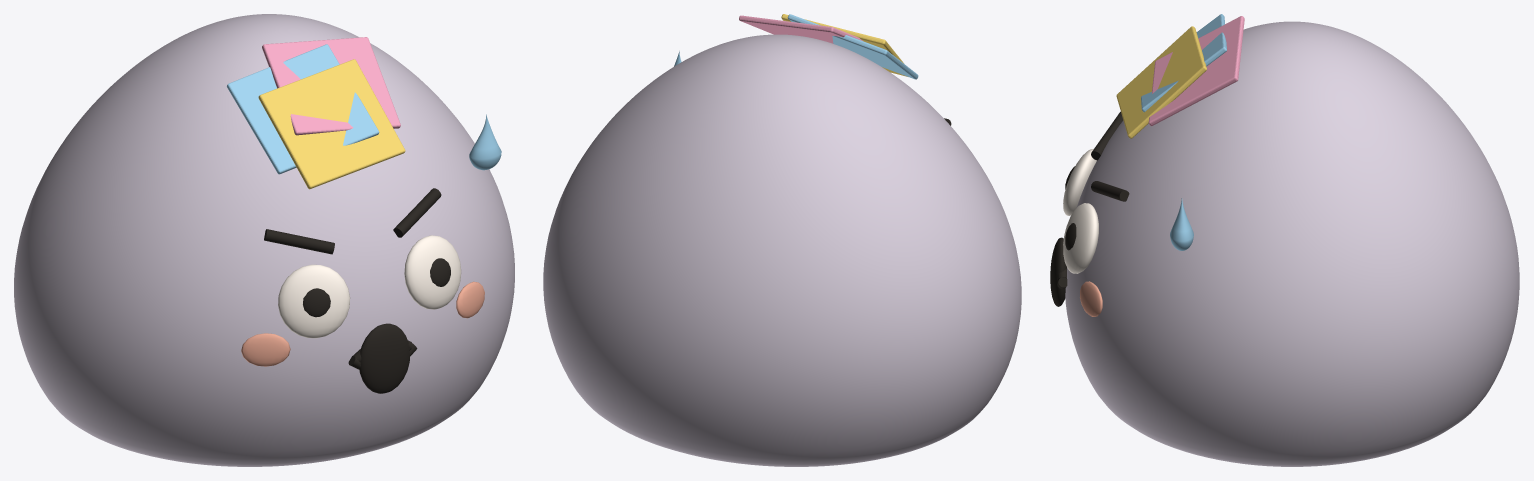
Rendered from Taches.glb.
3 renders of one model, left to right at view 1: azimuth 30°, elevation 25°; view 2: azimuth 150°, elevation 25°; view 3: azimuth 270°, elevation 25°, orthographic. The views are drawn at different scales.
Visible parts, largest first — view 1: Taches_Body, Taches_PostitMain, Taches_PostitBlue, Taches_PostitPink, Taches_EyeWide_L, Taches_EyeWide_R, Taches_MouthOpen, Taches_Cheek_L, Taches_Sweat, Taches_Brow_L, Taches_Cheek_R, Taches_Brow_R (+1 smaller); view 2: Taches_Body, Taches_PostitPink, Taches_PostitBlue, Taches_PostitMain; view 3: Taches_Body, Taches_PostitMain, Taches_PostitPink, Taches_EyeWide_R, Taches_PostitBlue, Taches_EyeWide_L, Taches_MouthOpen, Taches_Sweat, Taches_Cheek_R.
Boxes of the visible parts, bbox=[...] form: Taches_Body: bbox=[14, 14, 514, 466]; Taches_PostitMain: bbox=[258, 59, 405, 189]; Taches_PostitBlue: bbox=[227, 44, 379, 174]; Taches_PostitPink: bbox=[262, 37, 400, 135]; Taches_EyeWide_L: bbox=[278, 264, 350, 338]; Taches_EyeWide_R: bbox=[404, 235, 461, 309]; Taches_MouthOpen: bbox=[359, 323, 409, 393]; Taches_Cheek_L: bbox=[241, 333, 290, 366]; Taches_Sweat: bbox=[469, 114, 501, 170]; Taches_Brow_L: bbox=[264, 229, 334, 254]; Taches_Cheek_R: bbox=[456, 281, 484, 318]; Taches_Brow_R: bbox=[393, 188, 441, 237]; Taches_Body: bbox=[543, 34, 1021, 466]; Taches_PostitPink: bbox=[739, 15, 863, 43]; Taches_PostitBlue: bbox=[787, 14, 918, 79]; Taches_PostitMain: bbox=[781, 14, 907, 76]; Taches_Body: bbox=[1065, 21, 1519, 466]; Taches_PostitMain: bbox=[1116, 26, 1206, 138]; Taches_PostitPink: bbox=[1148, 16, 1244, 126]; Taches_EyeWide_R: bbox=[1063, 203, 1098, 273]; Taches_PostitBlue: bbox=[1141, 14, 1226, 112]; Taches_EyeWide_L: bbox=[1063, 149, 1096, 215]; Taches_MouthOpen: bbox=[1050, 237, 1066, 306]; Taches_Sweat: bbox=[1170, 198, 1193, 250]; Taches_Cheek_R: bbox=[1080, 281, 1102, 316].
Bounding box in the file's own units: 0.072 × 0.0613 × 0.0684.
